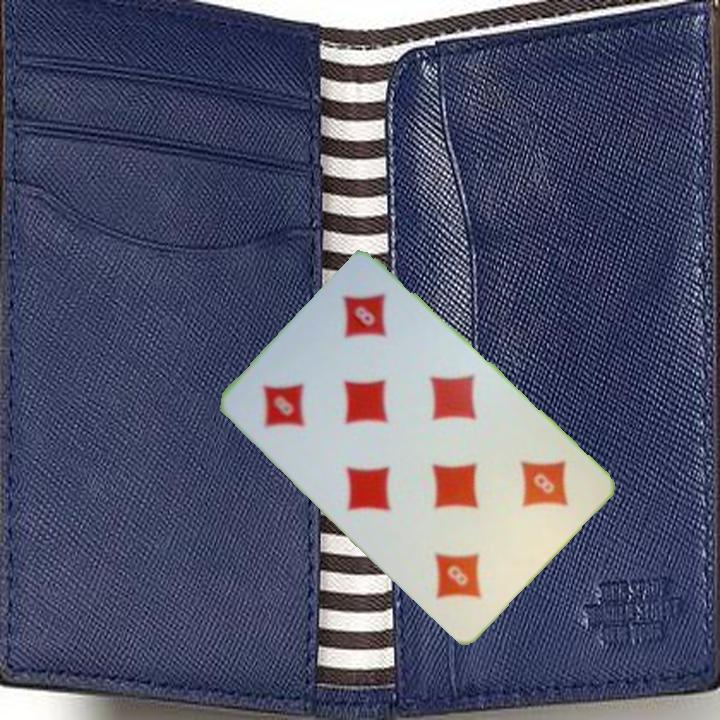d_8.png: (233, 334, 361, 463), (469, 428, 597, 557)
